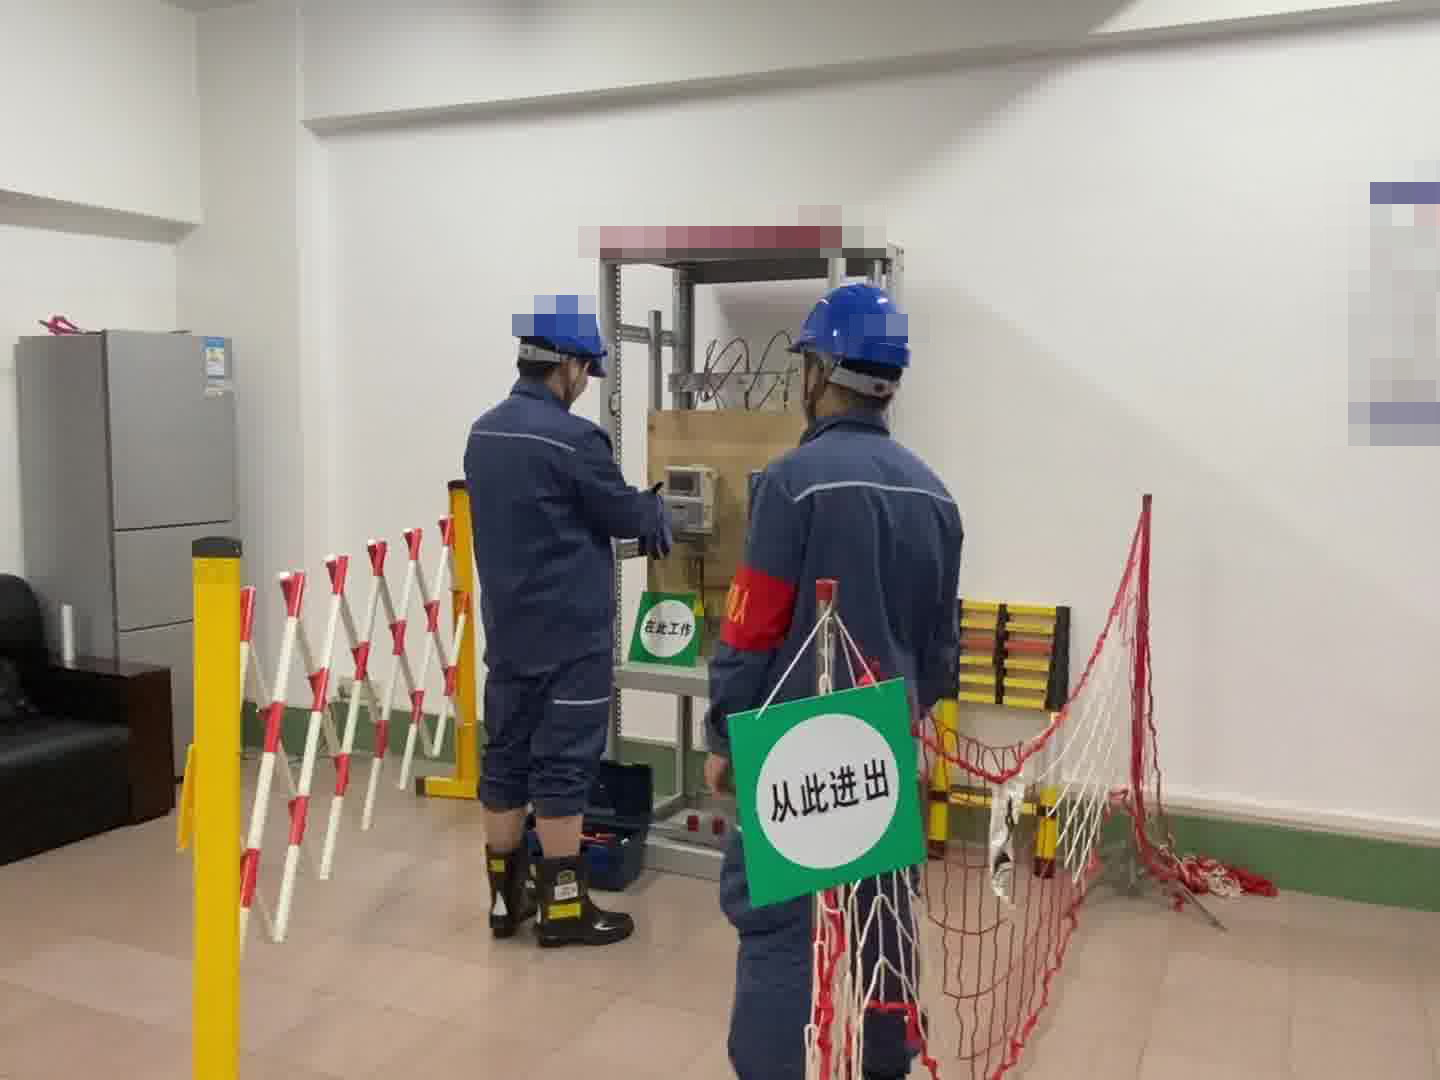badge: (721, 562, 799, 655)
downsuit: (706, 754, 924, 1080), (478, 655, 618, 816)
halt: (793, 280, 913, 411), (514, 296, 610, 394)
hand: (705, 747, 741, 802)
inear: (787, 355, 841, 430), (544, 351, 589, 413)
intosign: (700, 681, 945, 911)
person: (701, 278, 971, 1080), (451, 295, 676, 938)
shoe: (526, 853, 643, 950), (483, 836, 546, 936)
upsuit: (708, 414, 970, 710), (458, 382, 669, 657)
worksign: (624, 582, 711, 676)
wrongbottom: (532, 766, 612, 855), (476, 754, 532, 857)
